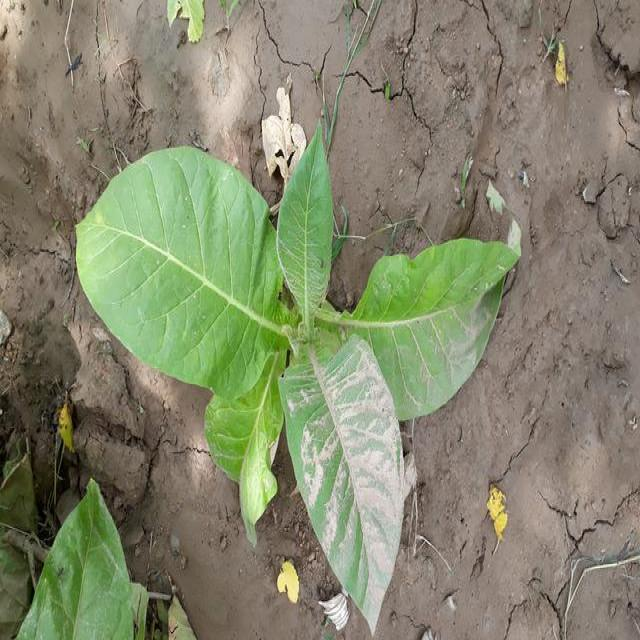crop: (68, 124, 520, 640)
